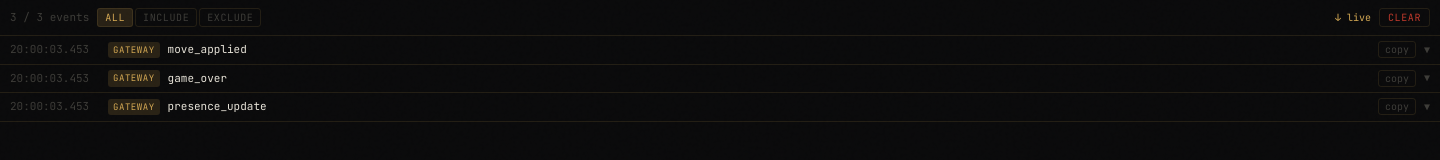
Test case: WsDevtools › include filter supports comma-separated types
This screenshot has width=1440, height=160.
Click the button with test id "filter-mode-include" at (166, 18), box [135,8,197,27]
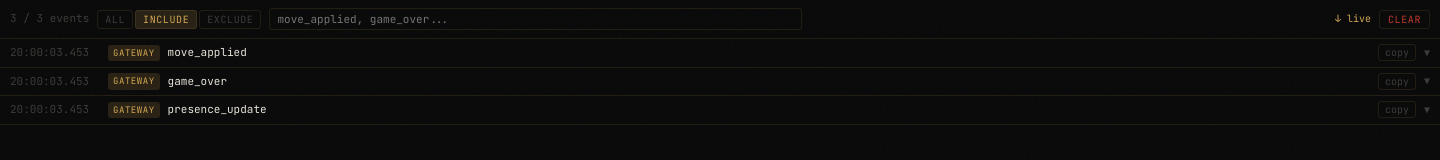
Type "move_applied, game_over" into the field with test id "filter-input" at (536, 19), box [270,8,802,30]
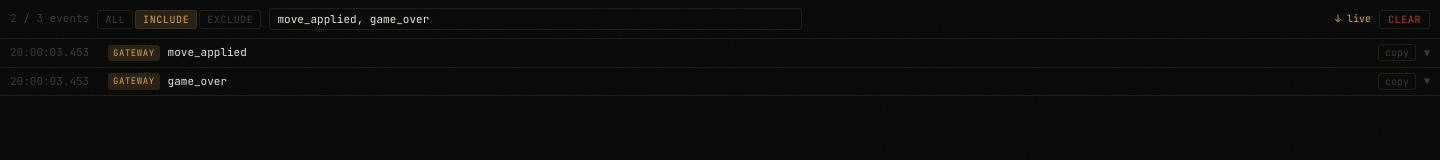
Check: the number of elements with test id "event-row" is 2, box [0,39,1439,68]; [0,68,1439,96]
